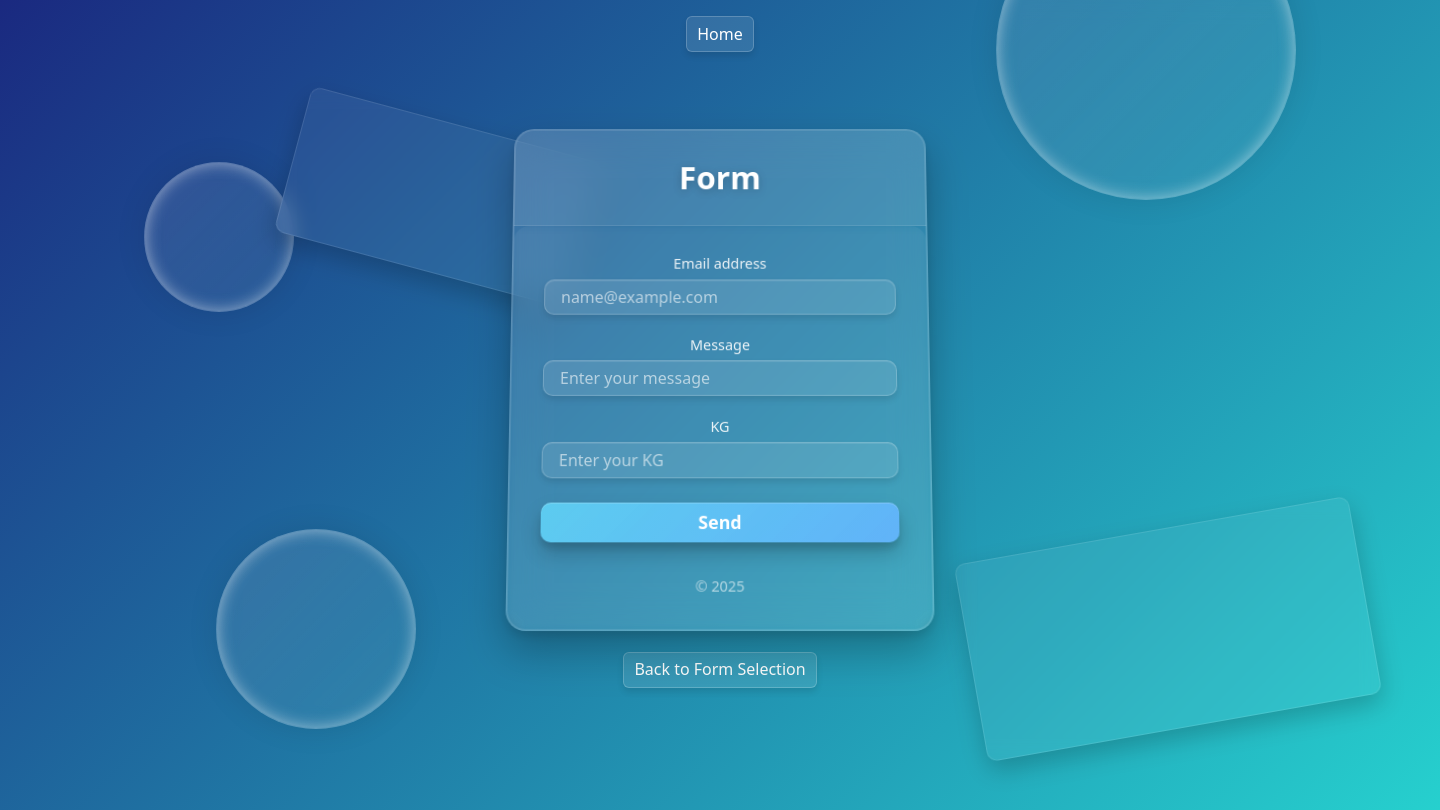
Scenario: NikiFormPage › Stage 4: Form Submission › clears form fields after submission
Type "test@example.com" into the field labelled "Email address" at (720, 297), box [544,279,896,315]
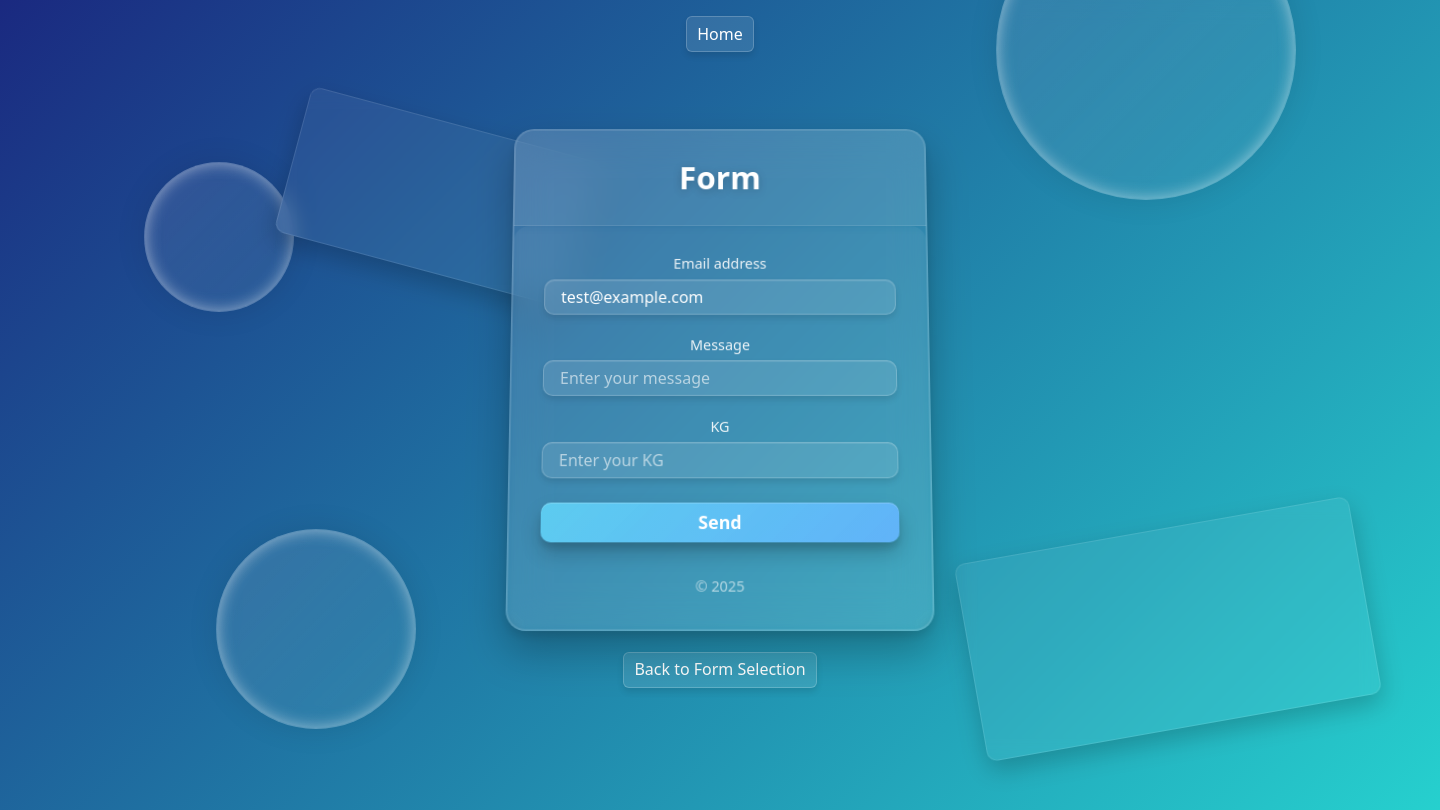
Type "Test message" into the field labelled "Message" at (720, 378), box [543,360,897,396]
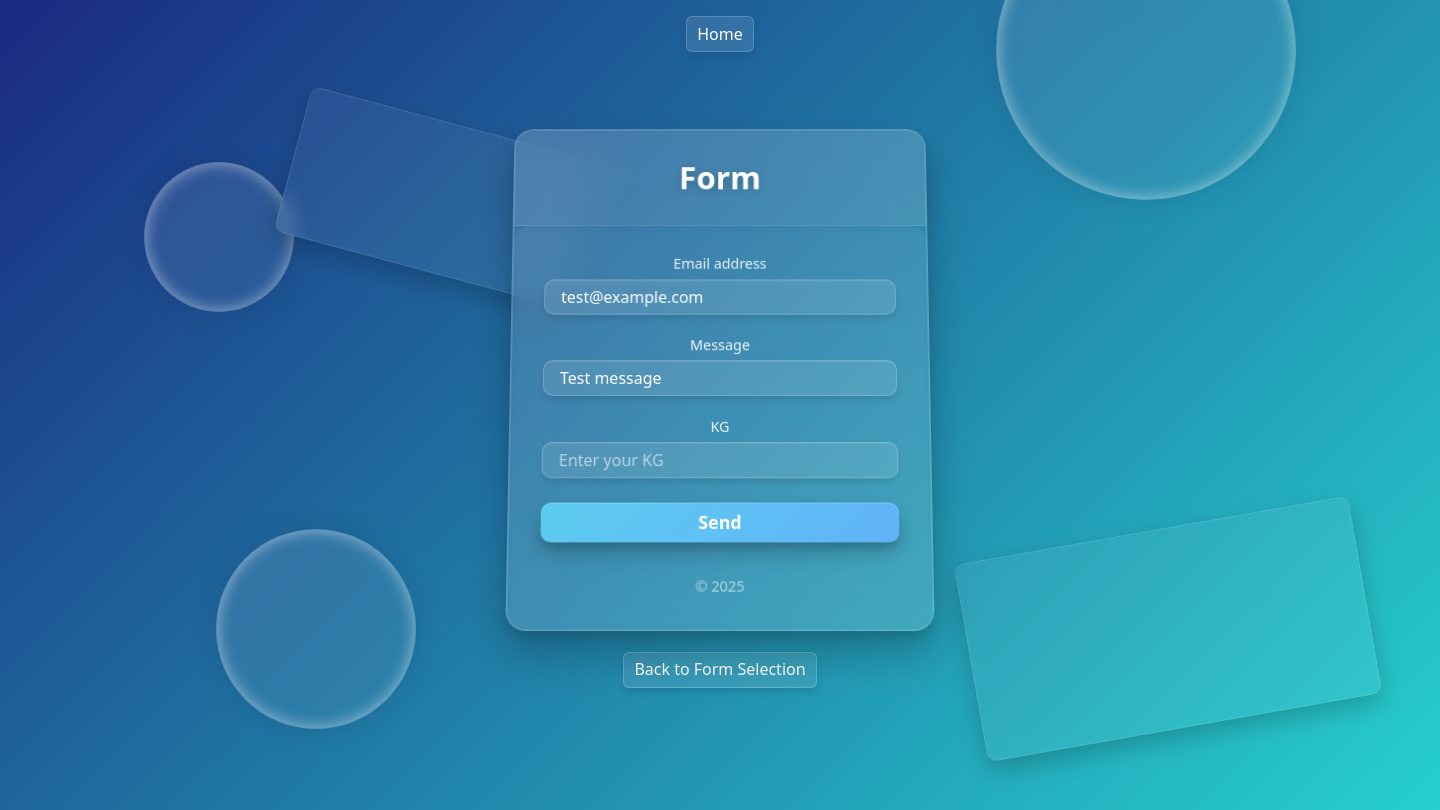
Type "75" into the number field labelled "KG" at (720, 461), box [541,443,899,479]
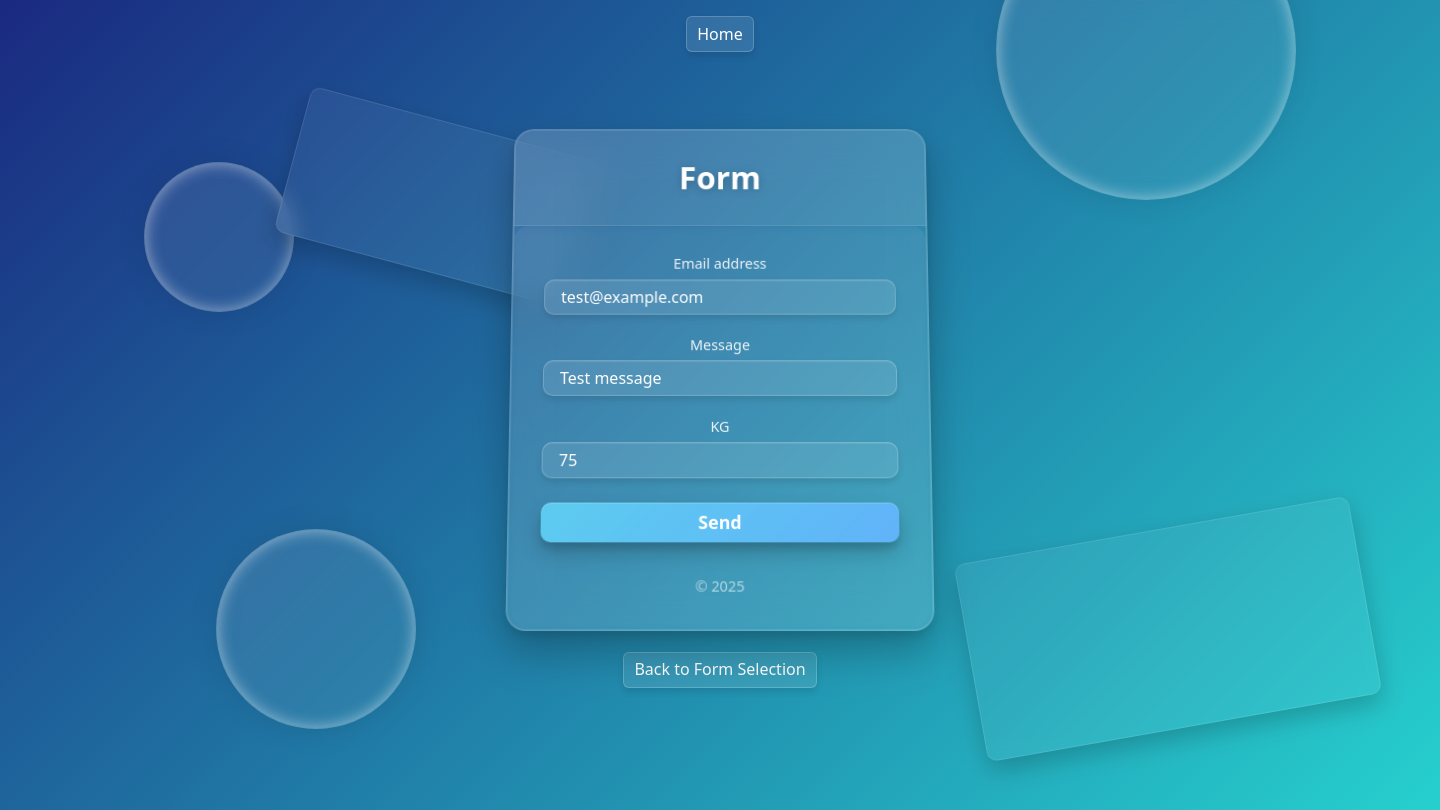
Click the button "Send" at (720, 523), box [540,503,900,542]
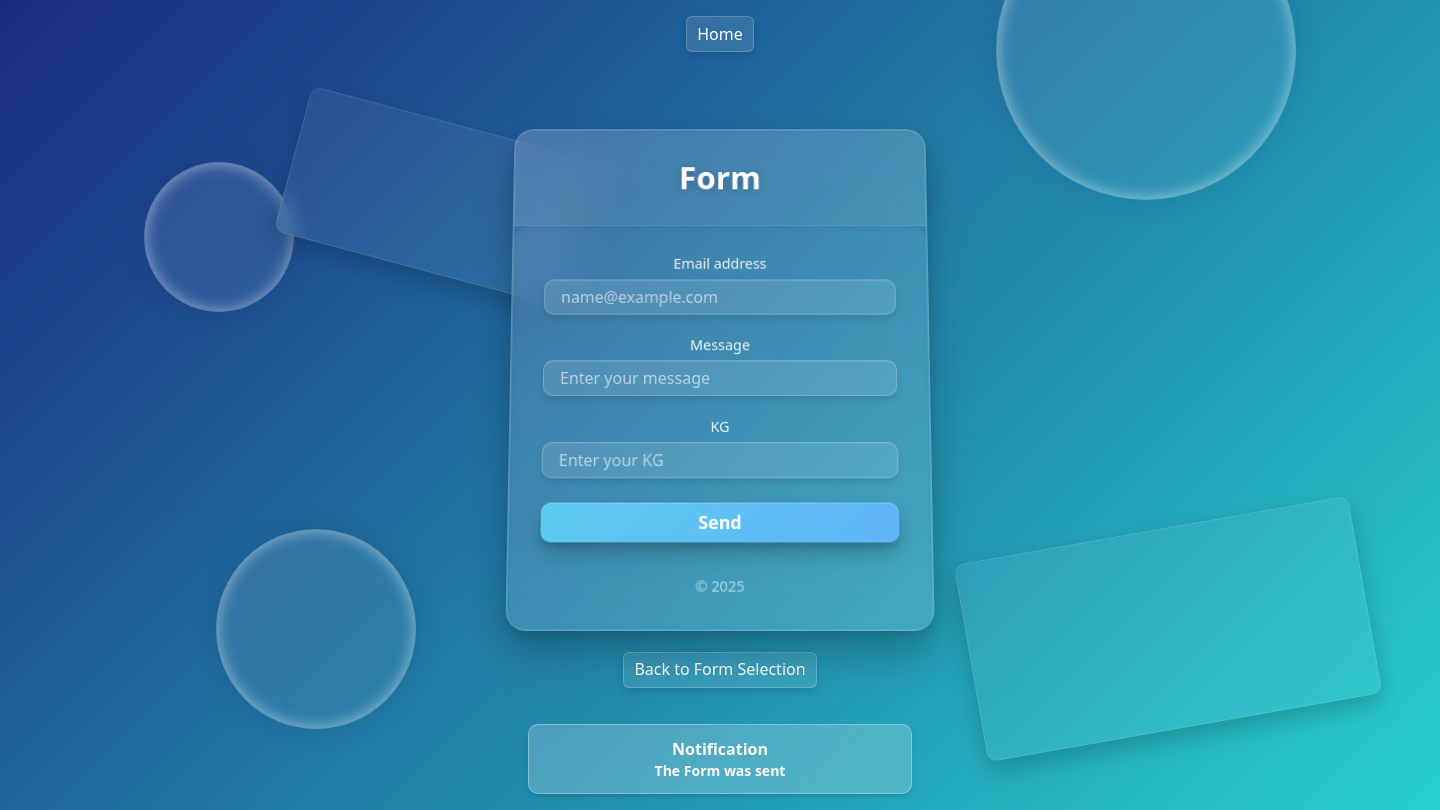
Check: the field labelled "Email address" is empty, box [544,279,896,315]
Check: the field labelled "Message" is empty, box [543,360,897,396]
Check: the number field labelled "KG" is not empty, box [541,443,899,479]
